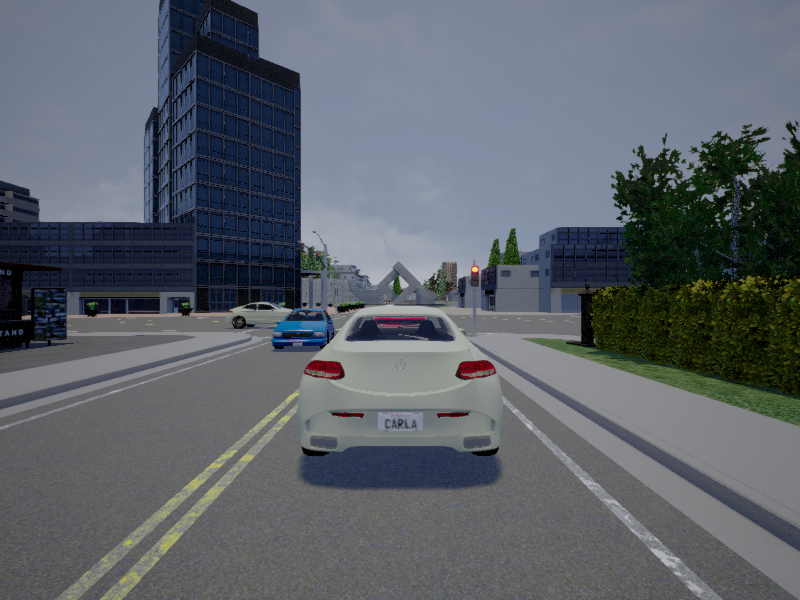Benign: (300, 308, 501, 458), (272, 309, 335, 350), (230, 300, 297, 328)
